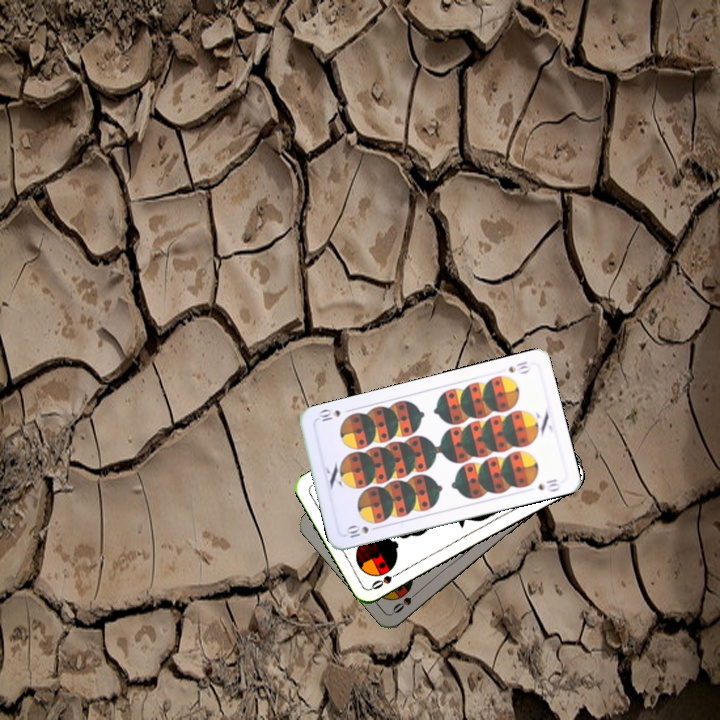S10: (504, 357, 533, 376), (342, 522, 371, 540)
SO: (388, 586, 423, 616), (367, 567, 405, 592)
